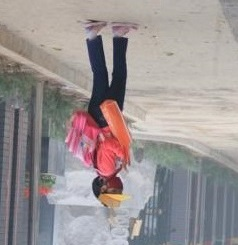person: (68, 18, 142, 210)
